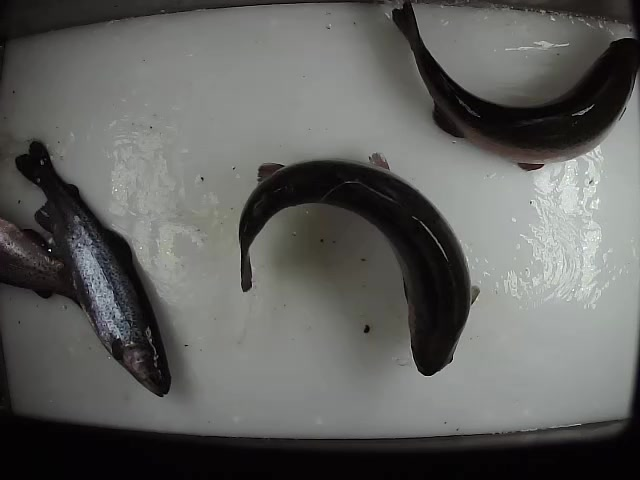fish: (235, 148, 483, 378), (392, 1, 640, 172), (14, 139, 172, 402)
